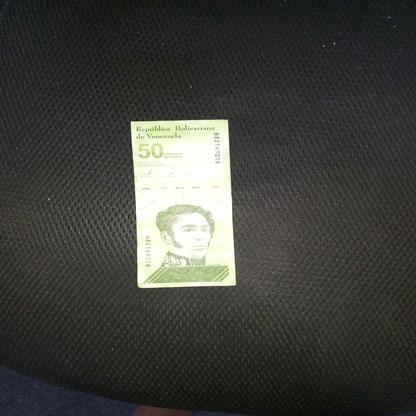fifty-front-vef: (130, 120, 235, 288)
